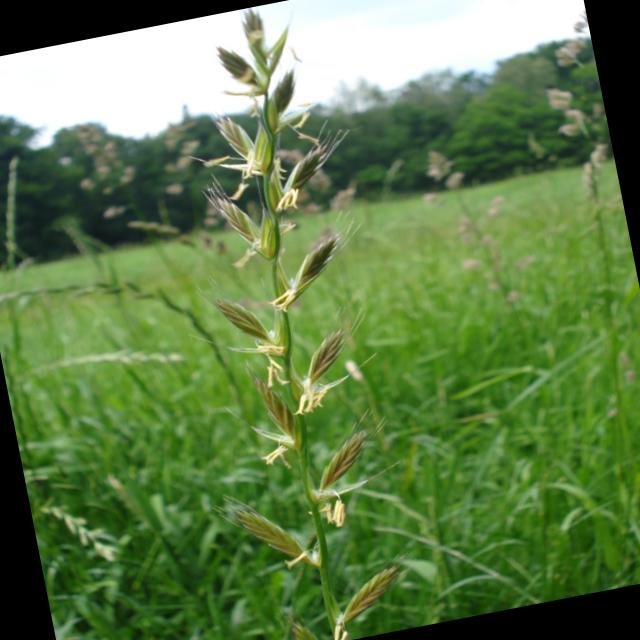Lolium: (121, 0, 447, 640), (0, 255, 208, 378), (34, 491, 118, 576)
